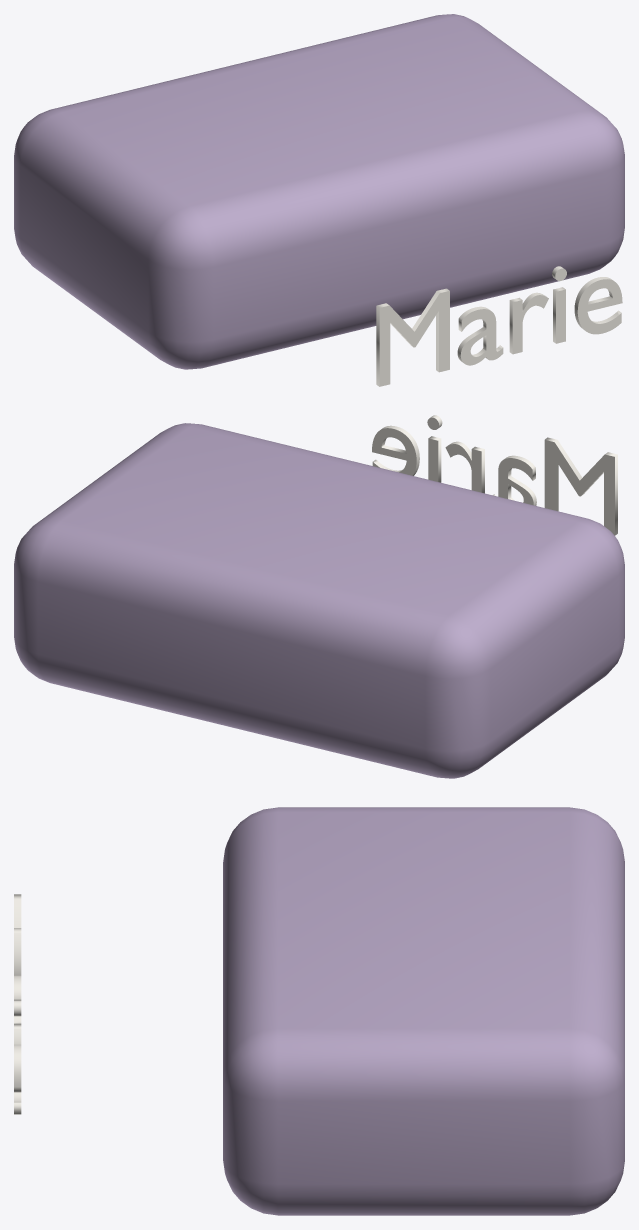
Rendered from marie.glb.
The picture shows the model from 3 angles, top to bottom: view 1: azimuth 30°, elevation 25°; view 2: azimuth 150°, elevation 25°; view 3: azimuth 270°, elevation 25°; orthographic projection. The views are drawn at different scales.
Visible parts, largest first — view 1: bar, Text; view 2: bar, Text; view 3: bar, Text.
Part boxes in pixels (x1,y1,x2,y2): bar: (14, 14, 624, 369); Text: (376, 266, 622, 386); bar: (14, 423, 624, 778); Text: (372, 415, 617, 535); bar: (223, 807, 624, 1215); Text: (14, 894, 21, 1114).
Size of the model in its own units: 0.68 by 0.22 by 0.669.
